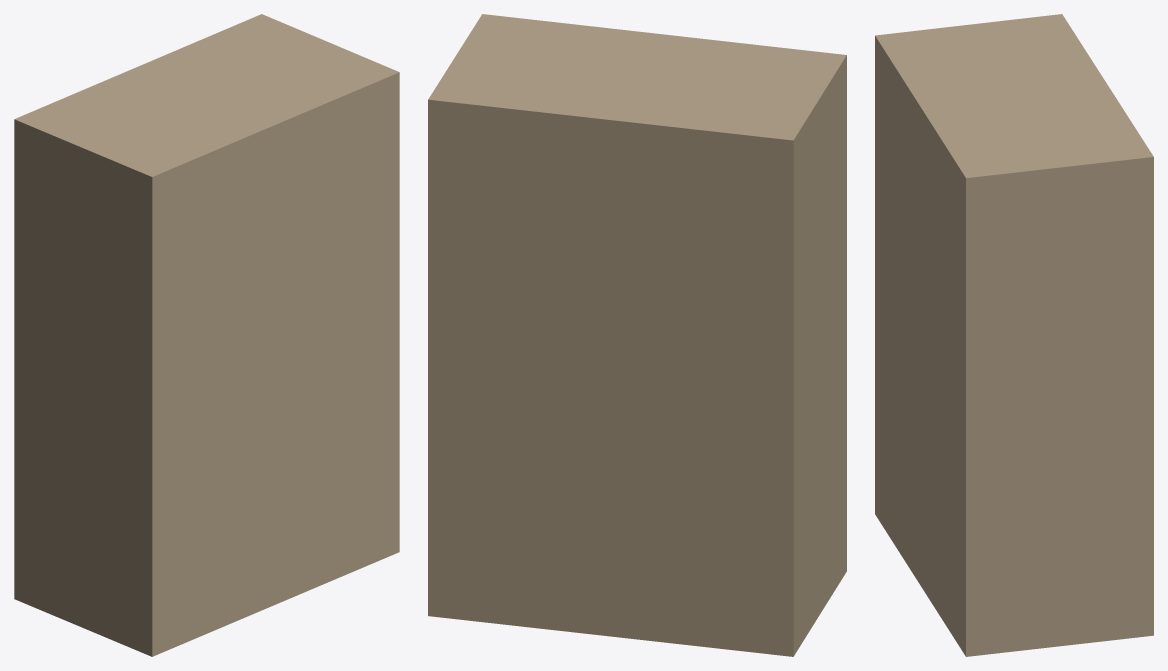
The model's file is bld_393484285.dae.
3 renders of one model, left to right at view 1: azimuth 30°, elevation 25°; view 2: azimuth 150°, elevation 25°; view 3: azimuth 270°, elevation 25°, orthographic. The views are drawn at different scales.
Visible parts, largest first — view 1: bld_393484285; view 2: bld_393484285; view 3: bld_393484285.
Boxes of the visible parts, bbox=[...] form: bld_393484285: bbox=[14, 14, 399, 656]; bld_393484285: bbox=[428, 14, 846, 656]; bld_393484285: bbox=[875, 14, 1153, 656].
Size of the model in its own units: 5.89 by 4.22 by 8.
